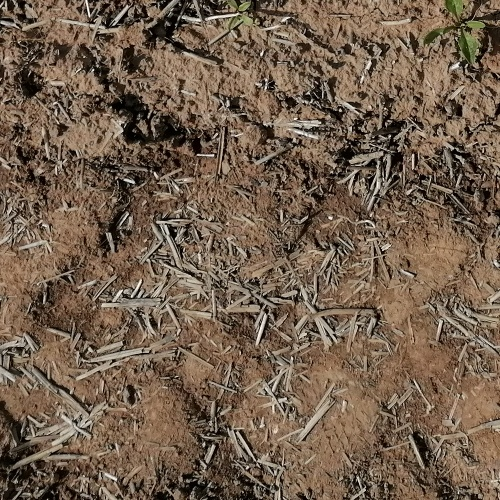beet: (426, 0, 487, 69), (226, 0, 256, 32)
